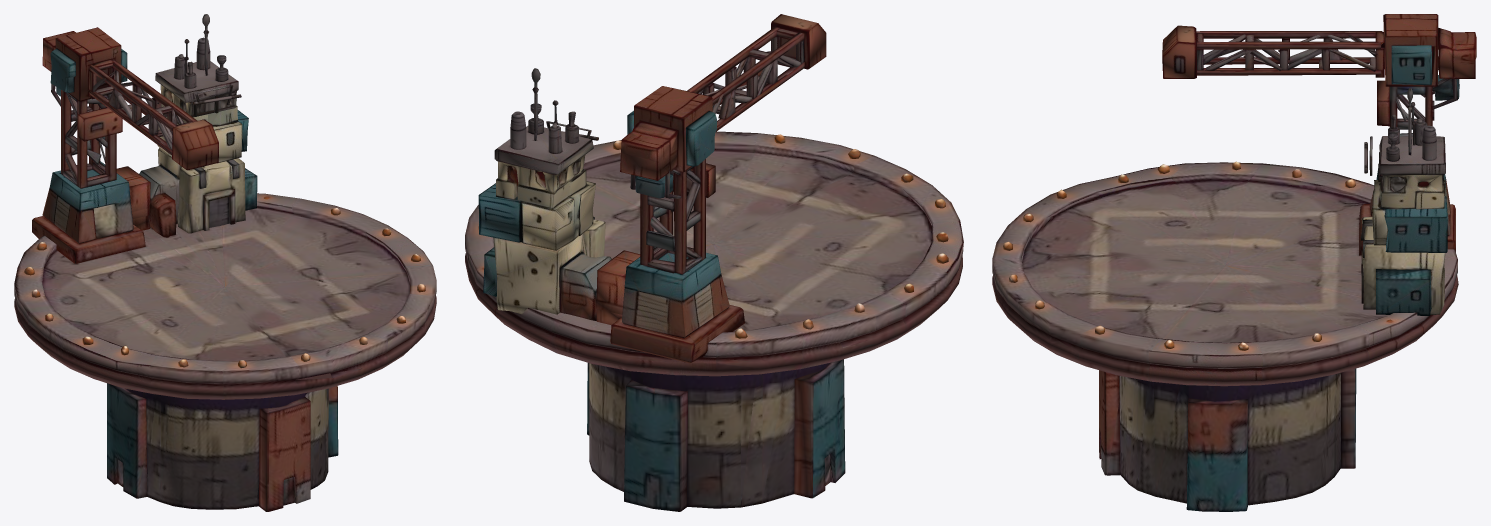
Rendered from starport.glb.
The picture shows the model from 3 angles, left to right: view 1: azimuth 30°, elevation 25°; view 2: azimuth 150°, elevation 25°; view 3: azimuth 270°, elevation 25°; orthographic projection. The views are drawn at different scales.
Parts seen in each view (by area): view 1: geometry_0; view 2: geometry_0; view 3: geometry_0.
Boxes of the visible parts, box(x1,y1,x2,y2) form: geometry_0: box(14, 14, 436, 511); geometry_0: box(465, 14, 963, 511); geometry_0: box(992, 14, 1476, 511).
Bounding box in the file's own units: 0.8979 × 0.8848 × 0.9521.
1 material, 1 textured.
